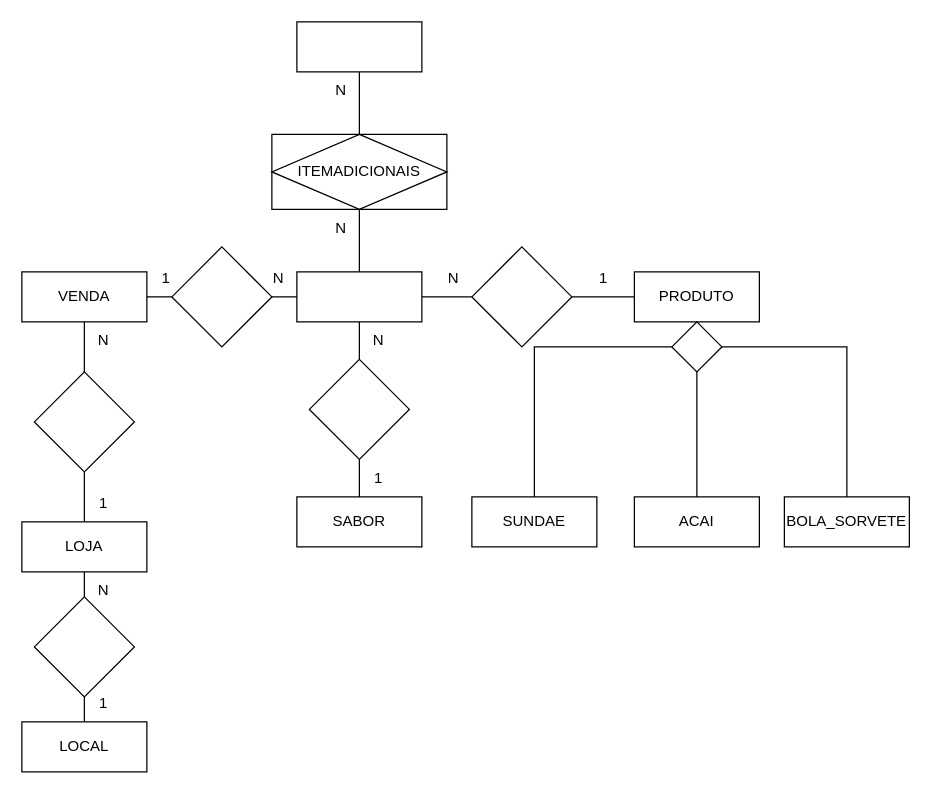
Some shapes in this 931 by 794 pixel diagram are drawn without their labels. Here are the shapes that lost their labels. From the top down, the centre of each, then its label:
At point 359,46: "ADICIONAIS".
At point 359,296: "ITEM".
